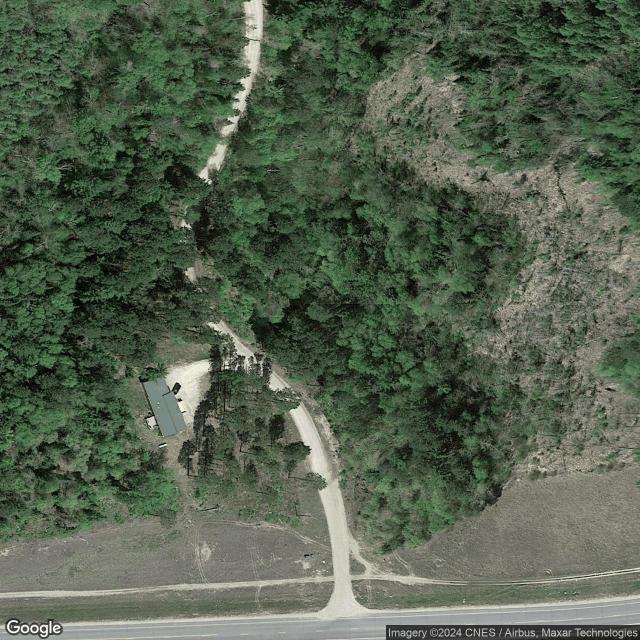Propane: (158, 442, 169, 449)
